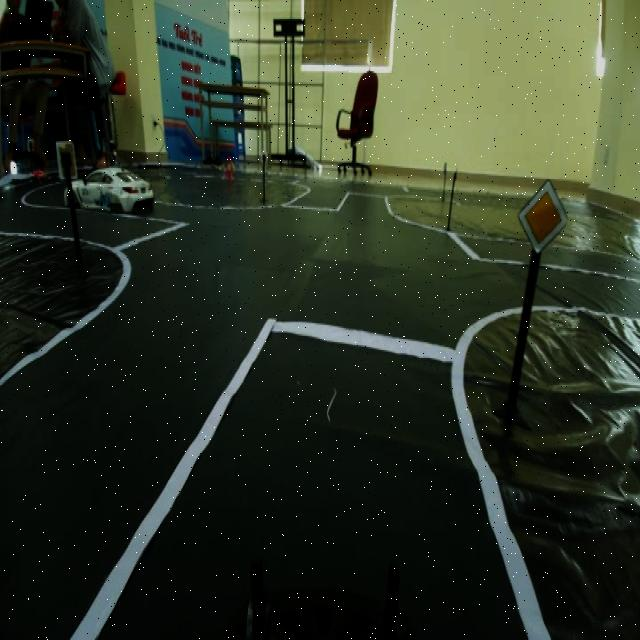priority: (518, 172, 574, 260)
